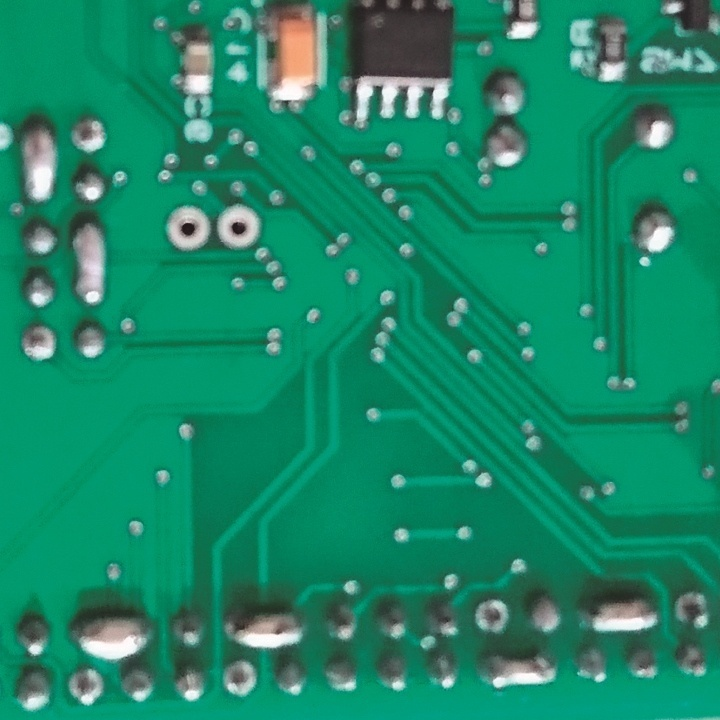F: (162, 203, 211, 252), (216, 200, 257, 249), (673, 589, 713, 632), (19, 320, 58, 364), (220, 659, 261, 699), (66, 666, 105, 707), (472, 596, 513, 635), (69, 115, 108, 155)
P: (65, 610, 154, 658), (225, 604, 304, 650), (481, 649, 561, 694), (579, 595, 660, 638), (17, 118, 58, 201), (68, 220, 104, 306)
